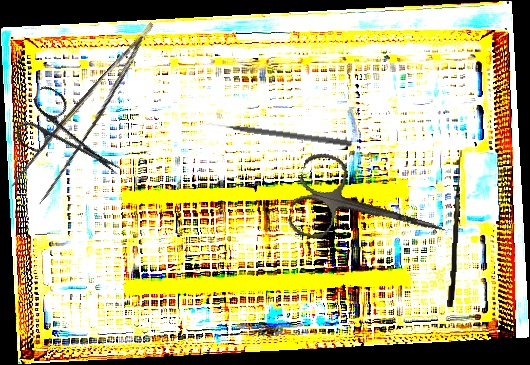Hook Surgical: (447, 149, 462, 308)
Iris Scissors: (285, 148, 456, 273), (9, 83, 137, 196)
Pusher: (206, 118, 353, 148)
Tissue Forceps: (3, 21, 181, 212)
